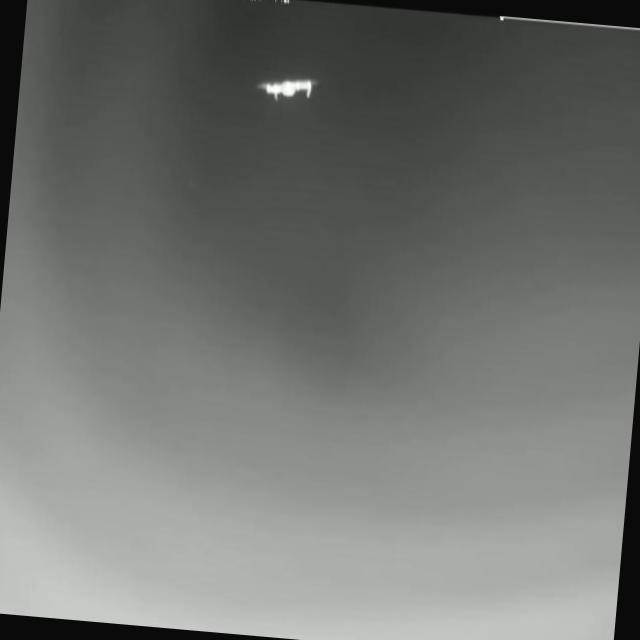DRONE: (256, 75, 320, 103)
